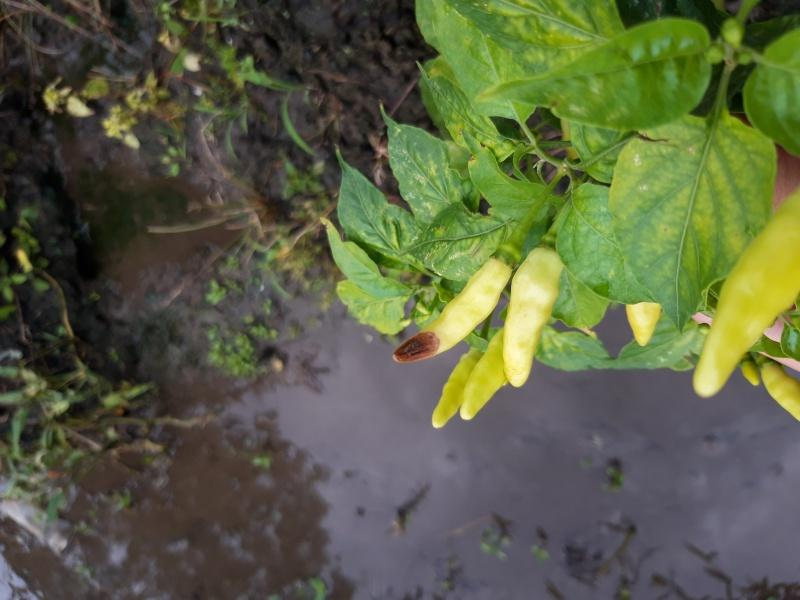antraknosa: (392, 255, 512, 364)
cabai_normal: (694, 180, 800, 402), (503, 243, 564, 388), (460, 331, 511, 423), (430, 349, 477, 430)
